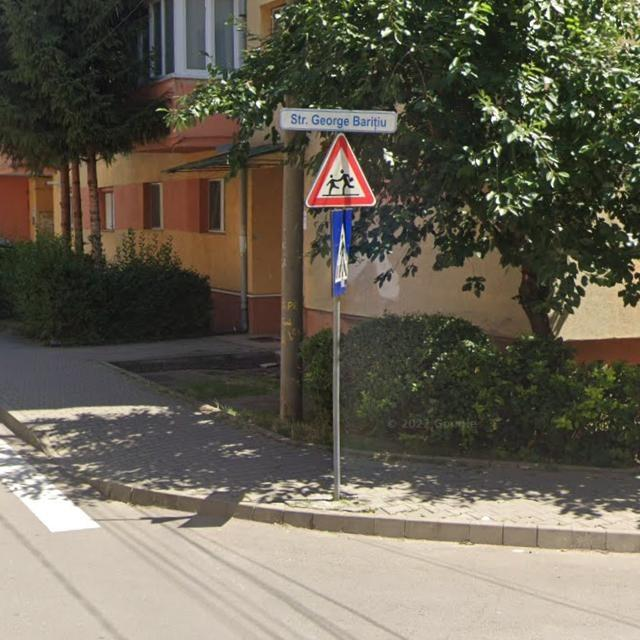info_crosswalk: (330, 209, 353, 296)
